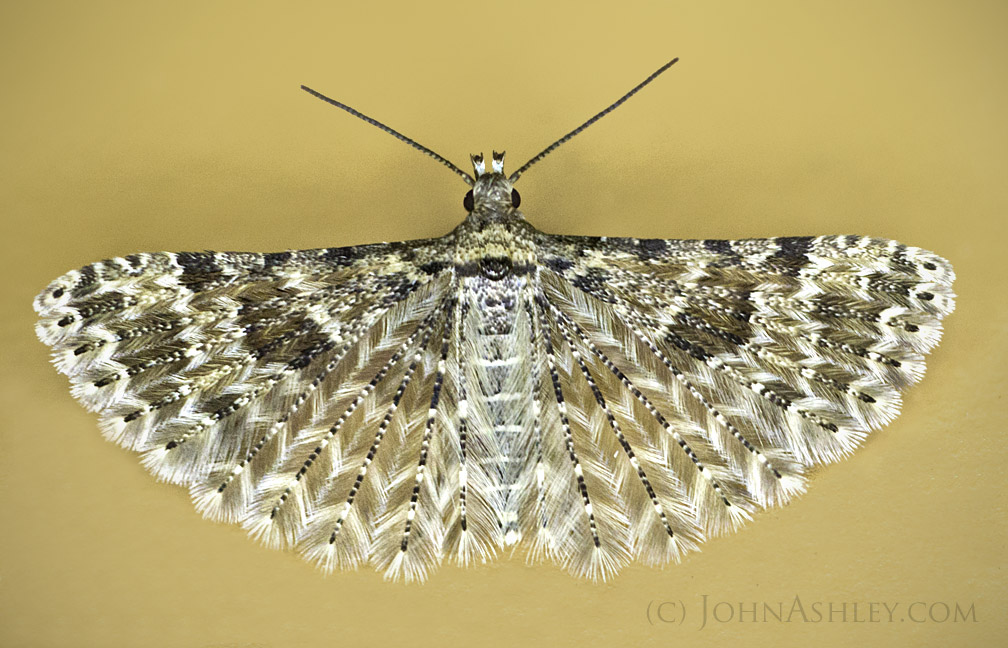Alucitidae: (28, 50, 961, 589)
moth: (30, 52, 963, 591)
